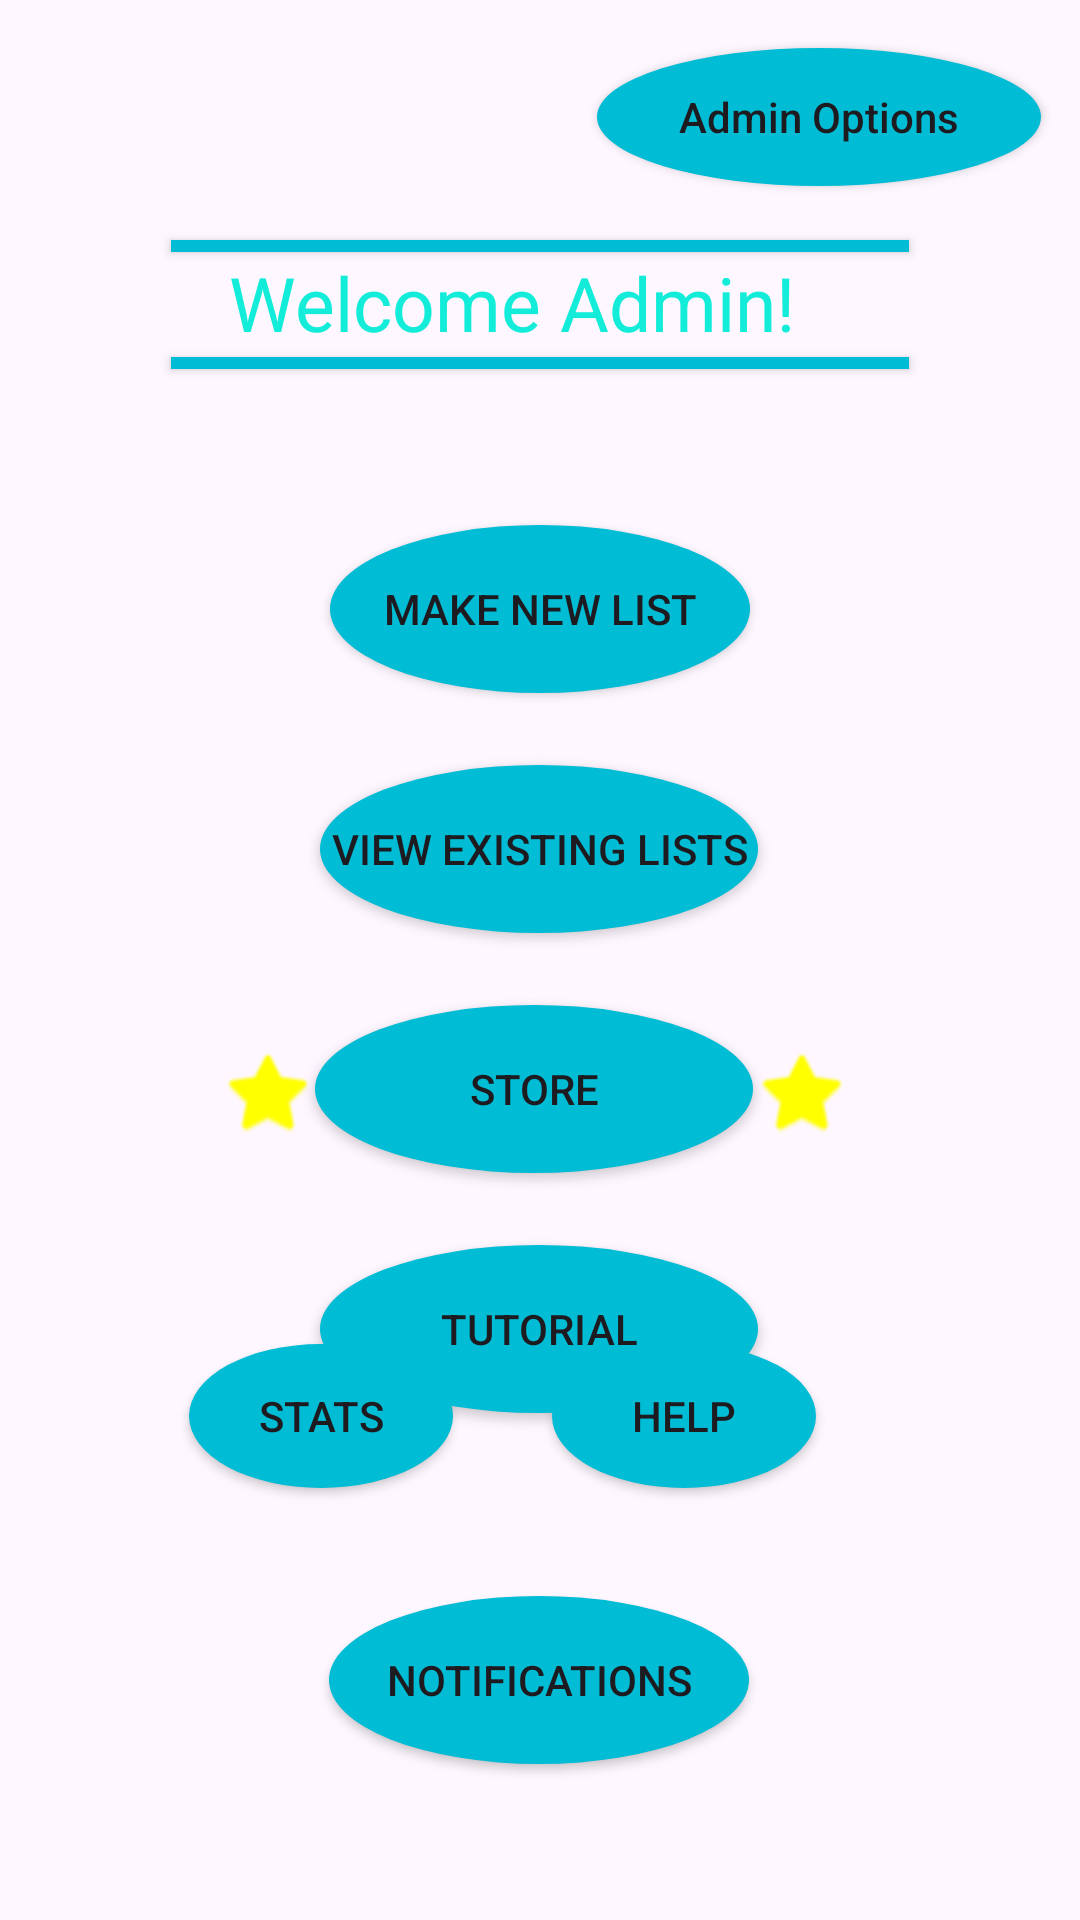

Locate icon controls on the screen. Image size 1080px x 1920px, boxes as [x1, y1, x2, y2].
star: [228, 1054, 308, 1132], [762, 1054, 842, 1132]
